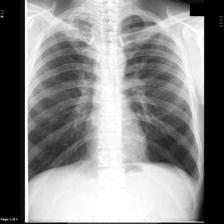tuberculosis: (27, 5, 203, 191)
